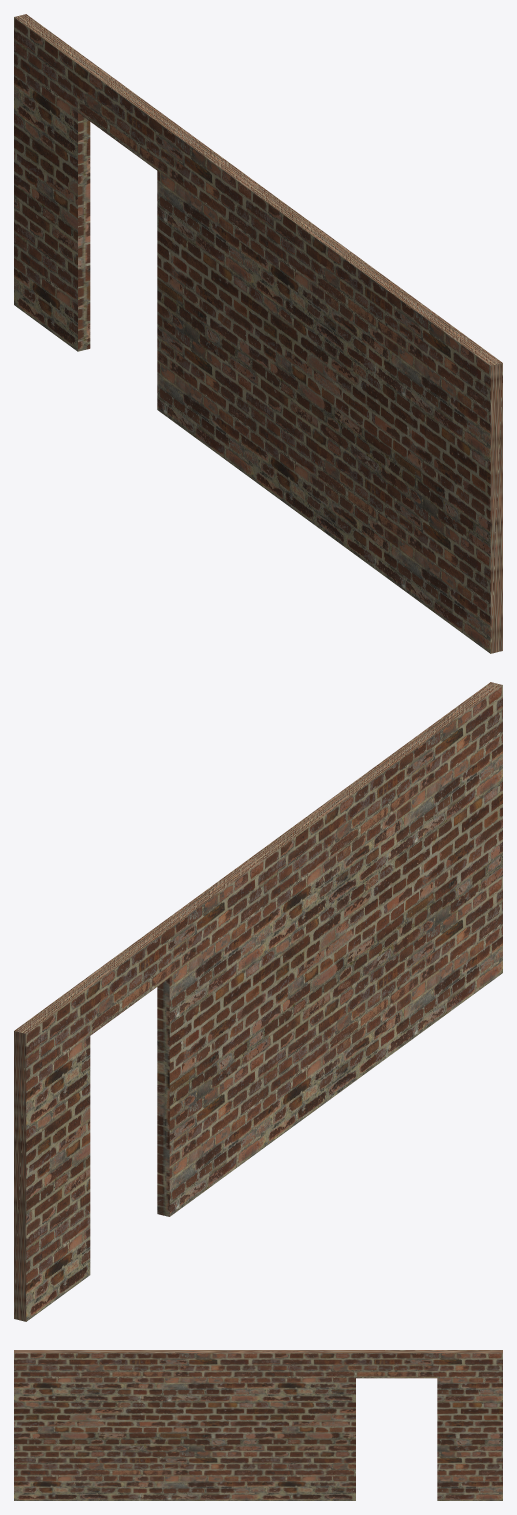
File: SideWall.glb
3 views of the same model, one above another, from view 1: azimuth 30°, elevation 25°; view 2: azimuth 150°, elevation 25°; view 3: azimuth 270°, elevation 25° (orthographic). The views are drawn at different scales.
Parts seen in each view (by area): view 1: LWall; view 2: LWall; view 3: LWall.
Part boxes in pixels (<box>): LWall: <box>14,14,502,653</box>; LWall: <box>14,682,502,1321</box>; LWall: <box>14,1350,502,1500</box>.
Size of the model in its own units: 0.179 by 4 by 12.
Materials: 1 (1 with a texture image).
